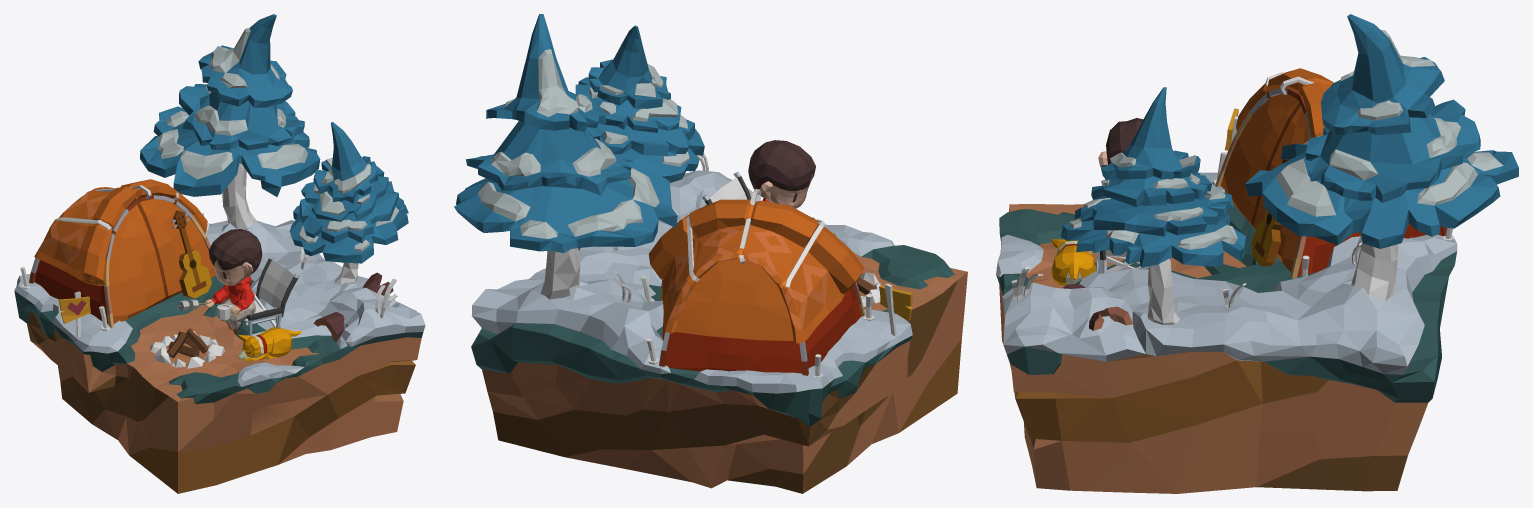
Rendered from 0003_campfire.fbx.
3 renders of one model, left to right at view 1: azimuth 30°, elevation 25°; view 2: azimuth 150°, elevation 25°; view 3: azimuth 270°, elevation 25°, orthographic. The views are drawn at different scales.
Parts seen in each view (by area): view 1: Land, Tent_Wall, pinetree_Big_Leaves03, pinetree_Big_Leaves02, pinetree_Big_Leaves01, pinetree_Small_Leave01, pinetree_Small_Leave04, pinetree_Small_Leave03, CampingMan_Head, pinetree_Small_Leave02, Guitar, Dog (+8 smaller); view 2: Land, Tent_Wall, pinetree_Big_Leaves03, pinetree_Big_Leaves02, pinetree_Big_Leaves01, pinetree_Small_Leave01, CampingMan_Head, pinetree_Small_Leave03, pinetree_Small_Leave02, pinetree_Small_Leave04, pinetree_Big_Trunk, Sign_Heart (+1 smaller); view 3: Land, pinetree_Big_Leaves03, pinetree_Big_Leaves02, Tent_Wall, pinetree_Big_Leaves01, pinetree_Small_Leave04, pinetree_Small_Leave03, pinetree_Small_Leave01, pinetree_Small_Leave02, pinetree_Big_Trunk, pinetree_Small_Turnk, Dog (+4 smaller).
Part boxes in pixels (box(x1,y1,x2,y2)): Land: box(14, 220, 425, 493); Tent_Wall: box(34, 179, 215, 324); pinetree_Big_Leaves03: box(140, 106, 320, 196); pinetree_Big_Leaves02: box(179, 84, 304, 150); pinetree_Big_Leaves01: box(198, 14, 292, 107); pinetree_Small_Leave01: box(314, 122, 378, 203); pinetree_Small_Leave04: box(289, 197, 408, 263); pinetree_Small_Leave03: box(299, 181, 398, 243); CampingMan_Head: box(208, 229, 262, 285); pinetree_Small_Leave02: box(305, 166, 388, 221); Guitar: box(171, 210, 211, 298); Dog: box(238, 327, 301, 360); Land: box(471, 170, 967, 493); Tent_Wall: box(649, 199, 863, 373); pinetree_Big_Leaves03: box(454, 159, 677, 253); pinetree_Big_Leaves02: box(466, 121, 631, 195); pinetree_Big_Leaves01: box(486, 14, 605, 131); pinetree_Small_Leave01: box(588, 25, 669, 108); CampingMan_Head: box(748, 140, 815, 208); pinetree_Small_Leave03: box(586, 115, 694, 155); pinetree_Small_Leave02: box(575, 77, 681, 132); pinetree_Small_Leave04: box(615, 129, 704, 182); pinetree_Big_Trunk: box(540, 248, 580, 299); Sign_Heart: box(879, 285, 912, 320); Land: box(996, 172, 1457, 493); pinetree_Big_Leaves03: box(1245, 140, 1518, 248); pinetree_Big_Leaves02: box(1305, 99, 1480, 202); Tent_Wall: box(1220, 68, 1442, 276); pinetree_Big_Leaves01: box(1320, 14, 1444, 134); pinetree_Small_Leave04: box(1061, 215, 1246, 267); pinetree_Small_Leave03: box(1074, 188, 1233, 236); pinetree_Small_Leave01: box(1101, 87, 1200, 180); pinetree_Small_Leave02: box(1091, 173, 1211, 206); pinetree_Big_Trunk: box(1351, 242, 1398, 302); pinetree_Small_Turnk: box(1147, 258, 1179, 324); Dog: box(1051, 239, 1096, 285).
Bounding box in the file's own units: 7.63 × 7.93 × 7.97.
